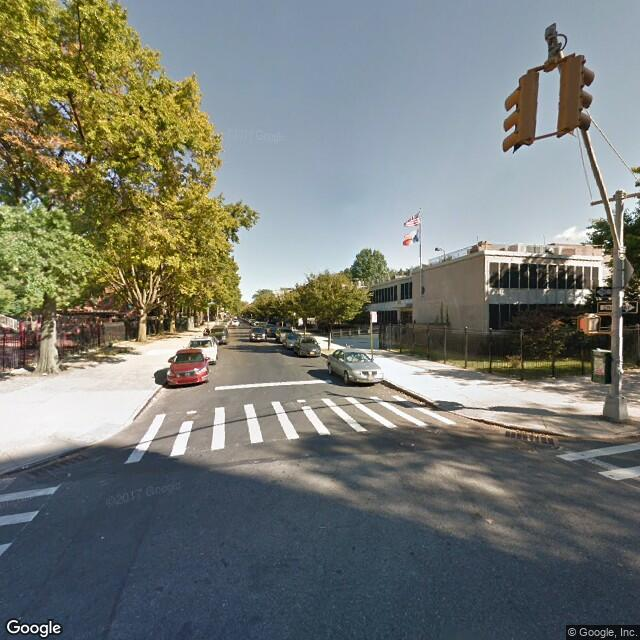litter: (59, 472, 73, 481)
